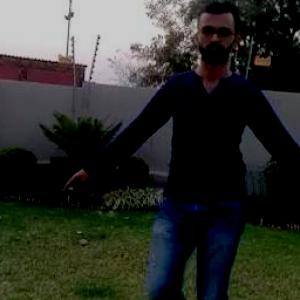land: (91, 34, 299, 299)
